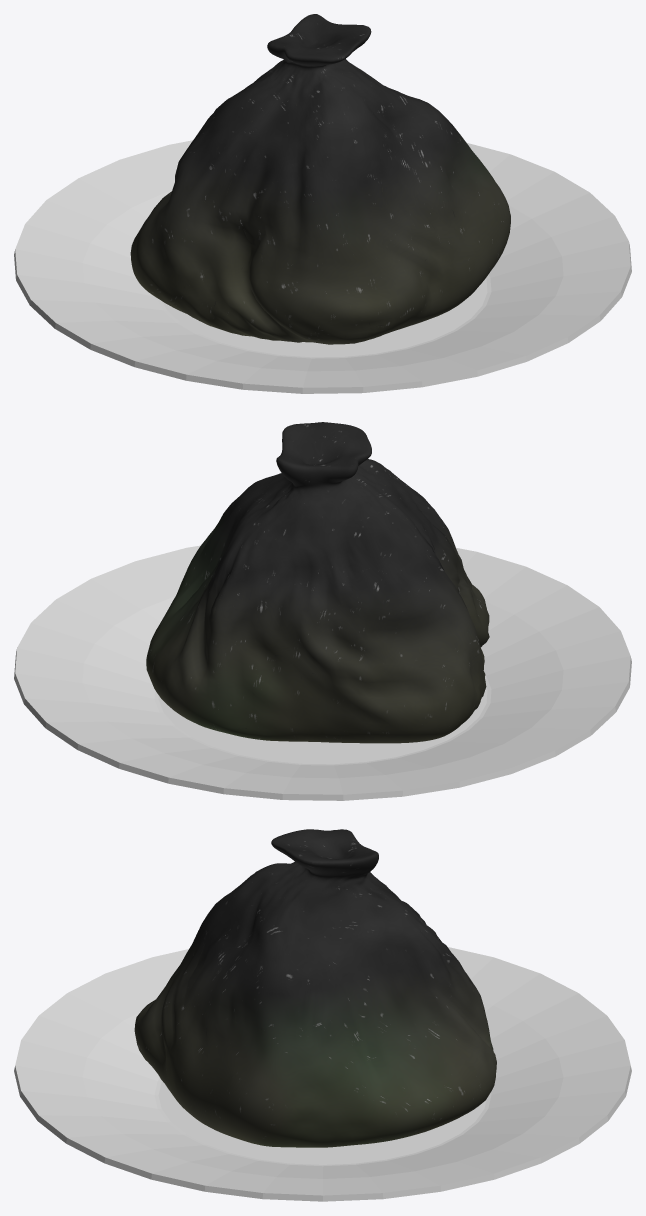
File: FailedDish.fbx
The picture shows the model from 3 angles, top to bottom: view 1: azimuth 30°, elevation 25°; view 2: azimuth 150°, elevation 25°; view 3: azimuth 270°, elevation 25°; orthographic projection.
Visible parts, largest first — view 1: Trash Bag Front Small, 재료접시.001; view 2: Trash Bag Front Small, 재료접시.001; view 3: Trash Bag Front Small, 재료접시.001.
Boxes of the visible parts, bbox=[...] form: Trash Bag Front Small: bbox=[130, 14, 510, 344]; 재료접시.001: bbox=[14, 140, 631, 393]; Trash Bag Front Small: bbox=[146, 422, 489, 743]; 재료접시.001: bbox=[14, 545, 631, 800]; Trash Bag Front Small: bbox=[134, 829, 496, 1147]; 재료접시.001: bbox=[14, 947, 631, 1201].
Size of the model in its own units: 198 by 95.34 by 198.
